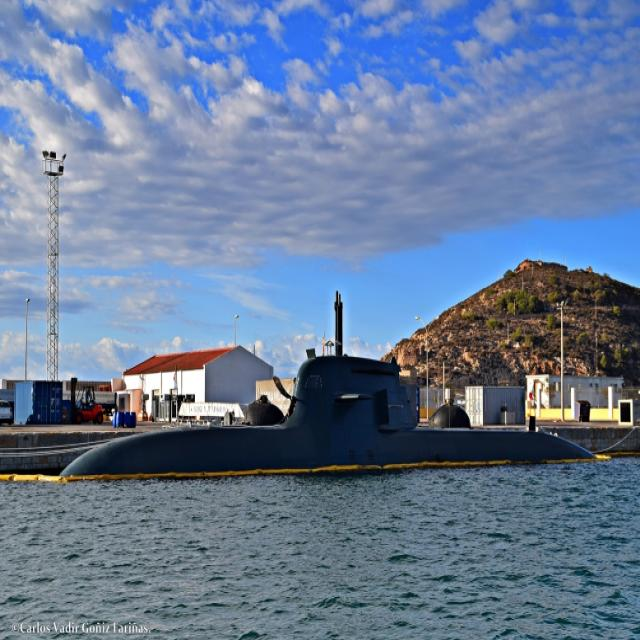submarine: (63, 288, 639, 477)
